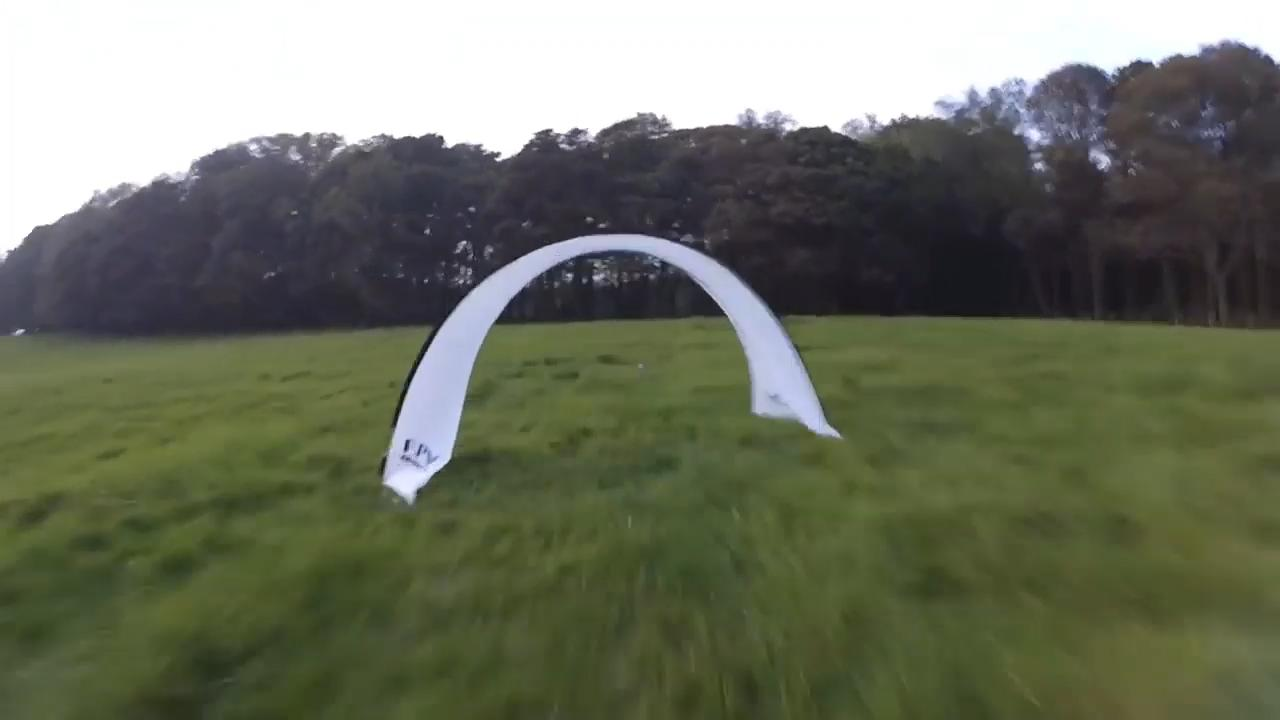gate: (378, 231, 845, 504)
